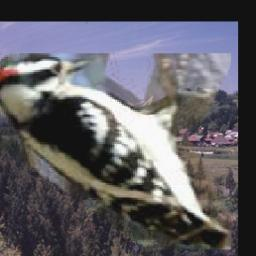Woodpecker: (0, 53, 231, 249)
